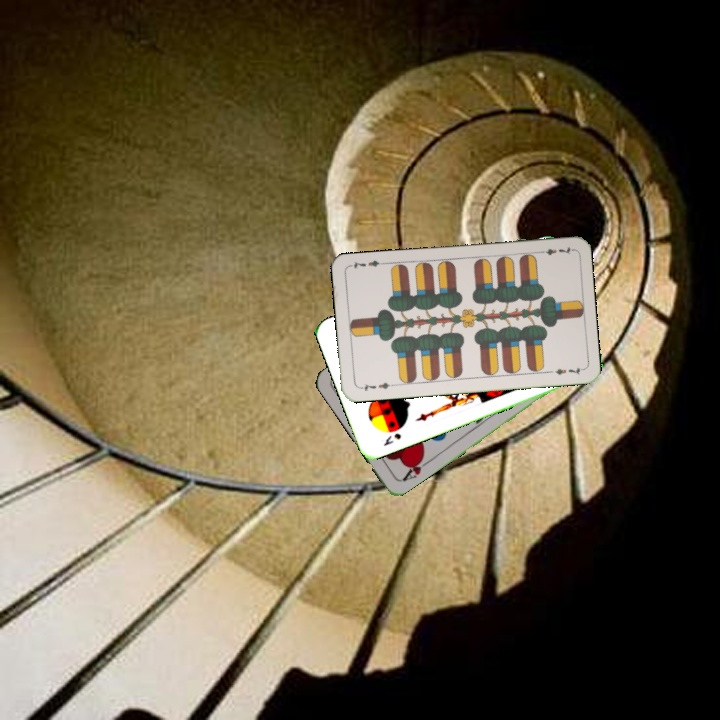E7: (356, 378, 396, 394), (534, 243, 575, 258)
HA: (398, 452, 433, 484)
SK: (380, 429, 404, 448)
